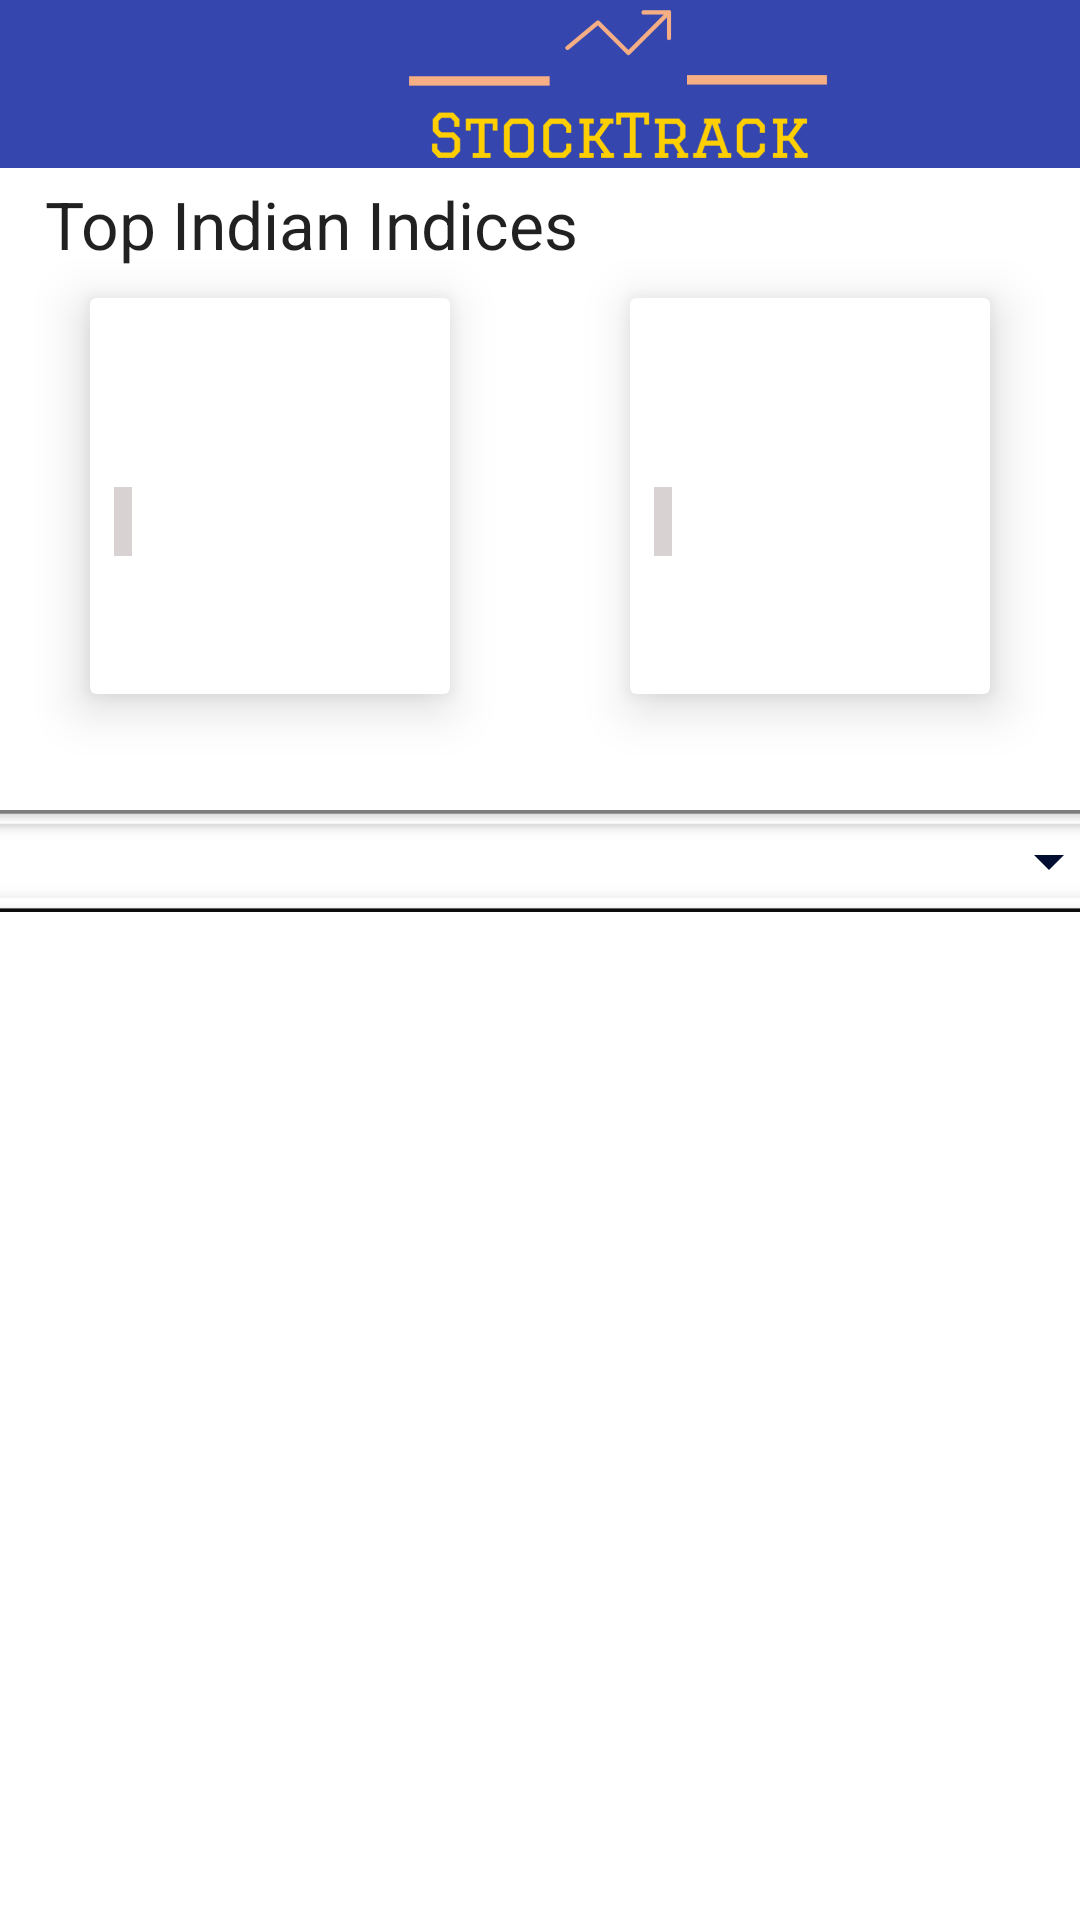

Icon click points for this 1080*1920 phone screenshot, format (x=x, y=y):
arrow drop down: (x=1049, y=862)
